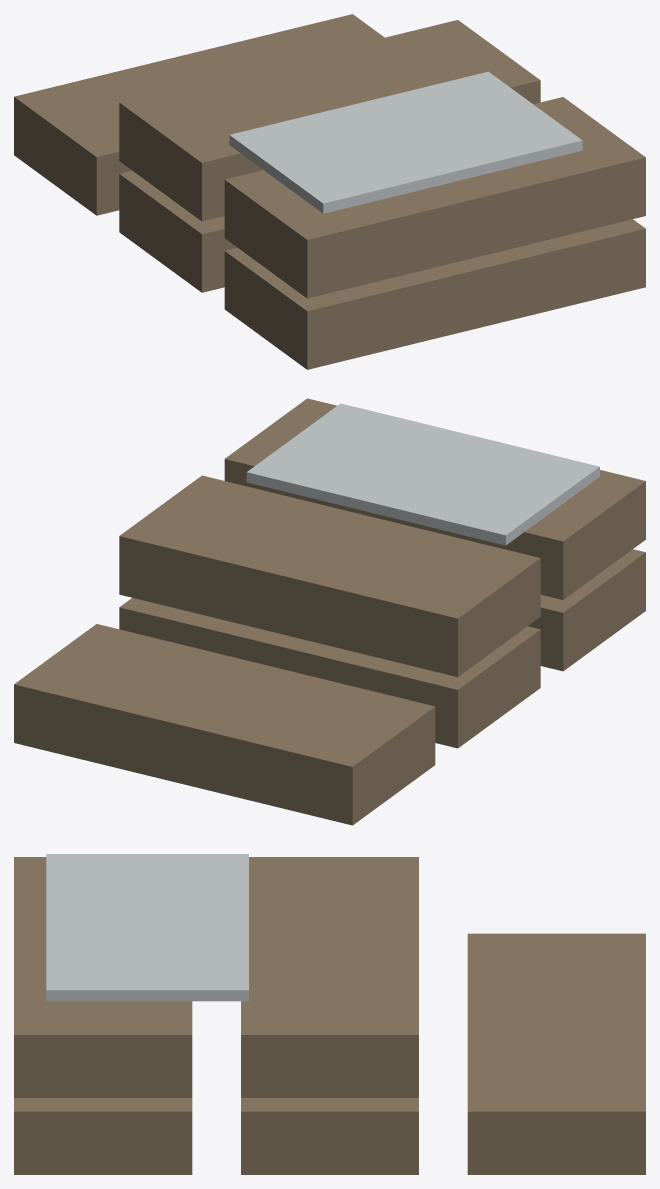
Rendered from roof_beam_pile.glb.
3 views of the same model, one above another, from view 1: azimuth 30°, elevation 25°; view 2: azimuth 150°, elevation 25°; view 3: azimuth 270°, elevation 25° (orthographic). The views are drawn at different scales.
Visible parts, largest first — view 1: roof_beam_pile; view 2: roof_beam_pile; view 3: roof_beam_pile.
Boxes of the visible parts, x1=… form: roof_beam_pile: x1=14, y1=14, x2=645, y2=369; roof_beam_pile: x1=14, y1=398, x2=645, y2=825; roof_beam_pile: x1=14, y1=854, x2=645, y2=1174.
Size of the model in its own units: 1.92 by 0.8 by 2.88.
